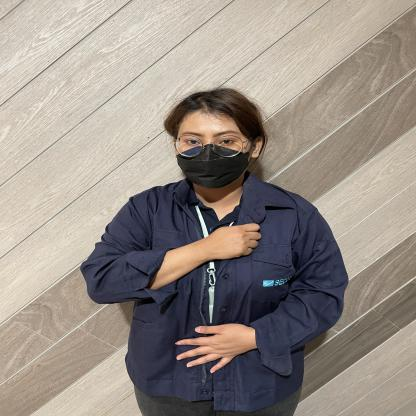Sadness: (156, 206, 288, 282)
